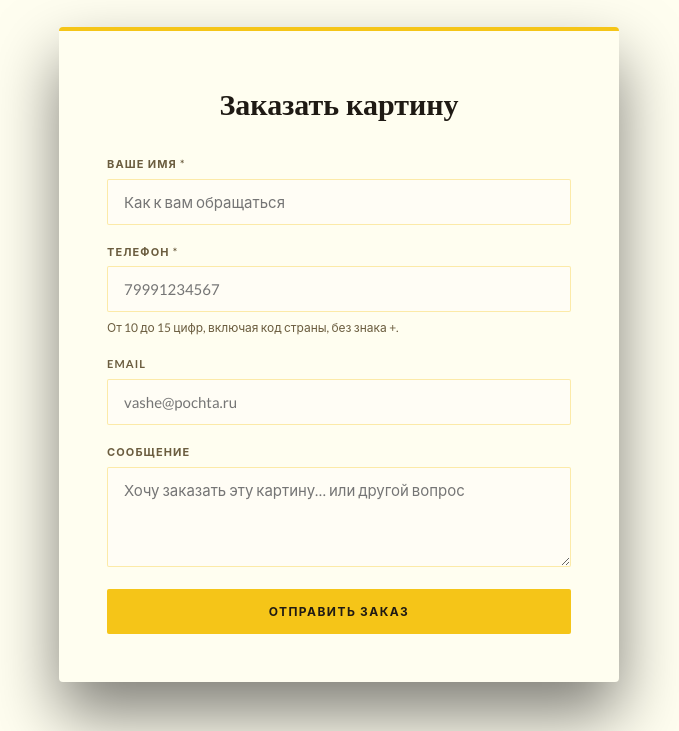
Scenario: Форма заказа › отправляет нормализованные данные и показывает подтверждение
This screenshot has width=679, height=731.
Type " Анна " into the field labelled "Ваше имя *" at coordinates (339, 202), box [107,179,571,225]
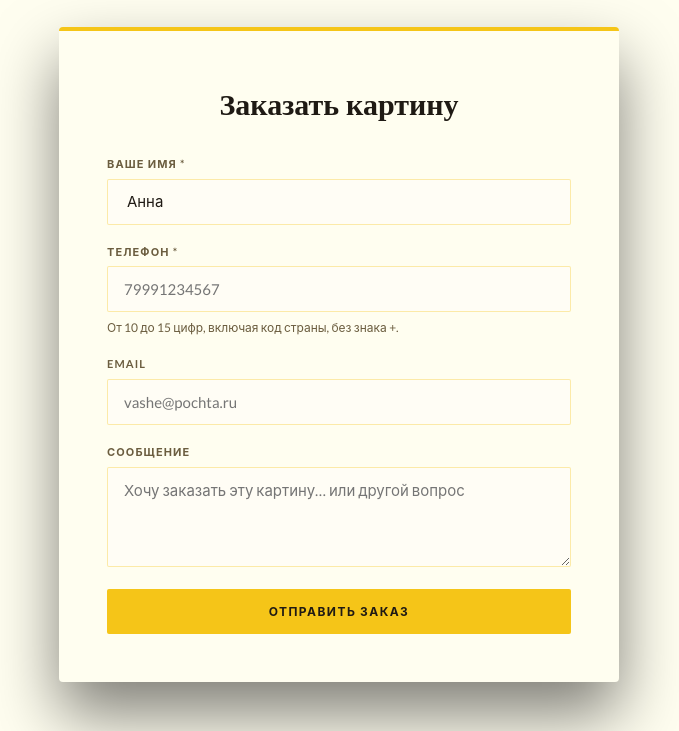
Type "+7 (999) 123-45-67" into the field labelled "Телефон *" at coordinates (339, 289), box [107,266,571,312]
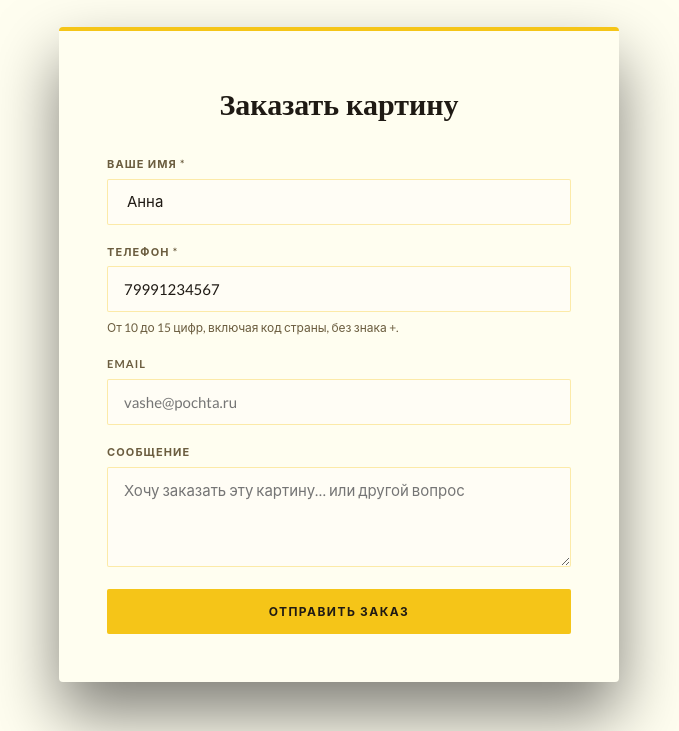
Click the button "Отправить заказ" at coordinates (339, 611), box [107,589,571,634]
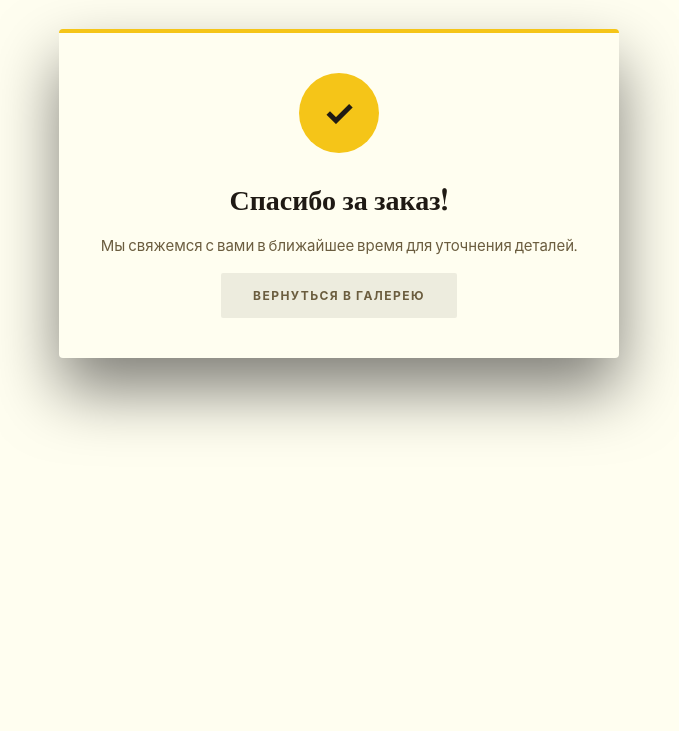
Expected: the heading "Спасибо за заказ!" is shown, [229,180,448,216]
